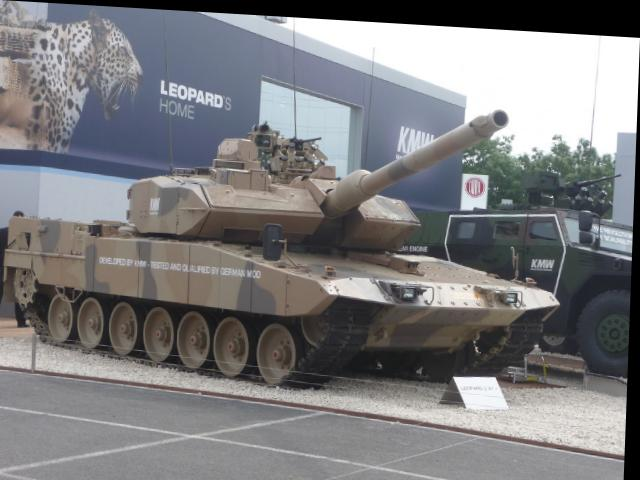tank: (4, 98, 567, 401)
